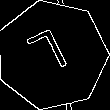L_SE: (27, 25, 78, 84)
